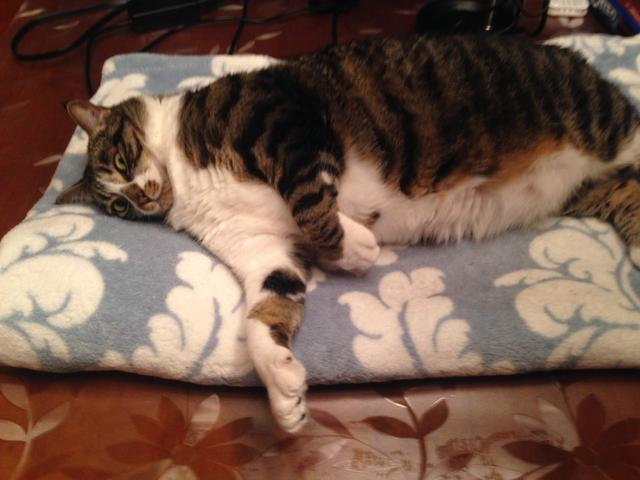playdoh: (52, 38, 640, 436)
